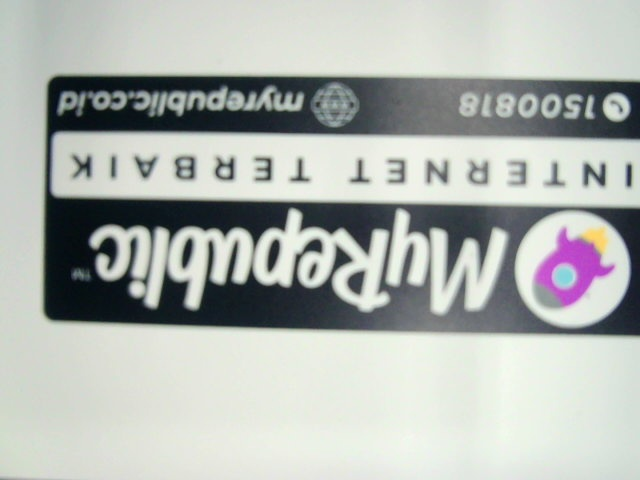BD_MyRepublic: (36, 66, 639, 342)
